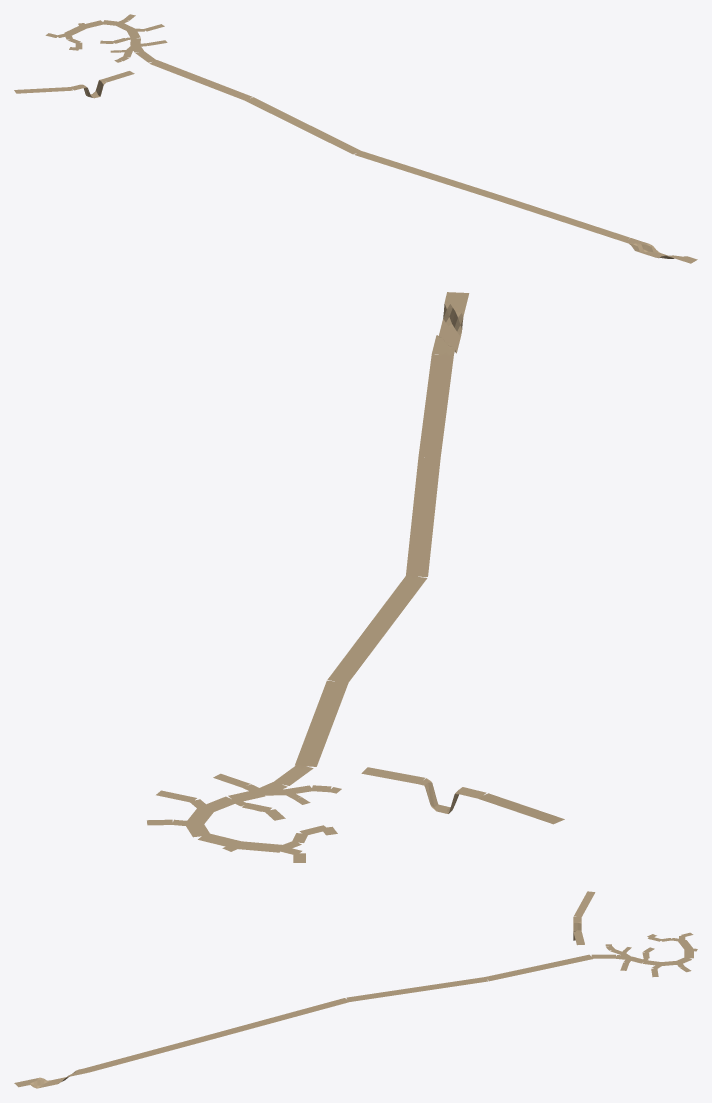
File: ranch_paths.glb
The picture shows the model from 3 angles, top to bottom: view 1: azimuth 30°, elevation 25°; view 2: azimuth 150°, elevation 25°; view 3: azimuth 270°, elevation 25°; orthographic projection. The views are drawn at different scales.
Visible parts, largest first — view 1: ranch_connection, ranch_farm_lane, ranch_ranch_side_route; view 2: ranch_connection, ranch_farm_lane, ranch_ranch_side_route; view 3: ranch_connection, ranch_farm_lane, ranch_ranch_side_route.
Boxes of the visible parts, <box> form: ranch_connection: <box>149,60,697,263</box>; ranch_farm_lane: <box>64,20,156,62</box>; ranch_ranch_side_route: <box>14,71,134,98</box>; ranch_connection: <box>295,292,469,766</box>; ranch_farm_lane: <box>186,764,313,852</box>; ranch_ranch_side_route: <box>361,767,564,824</box>; ranch_connection: <box>14,954,592,1088</box>; ranch_farm_lane: <box>591,940,693,965</box>; ranch_ranch_side_route: <box>573,891,595,945</box>.
Bounding box in the file's own units: 114 × 10.52 × 196.
